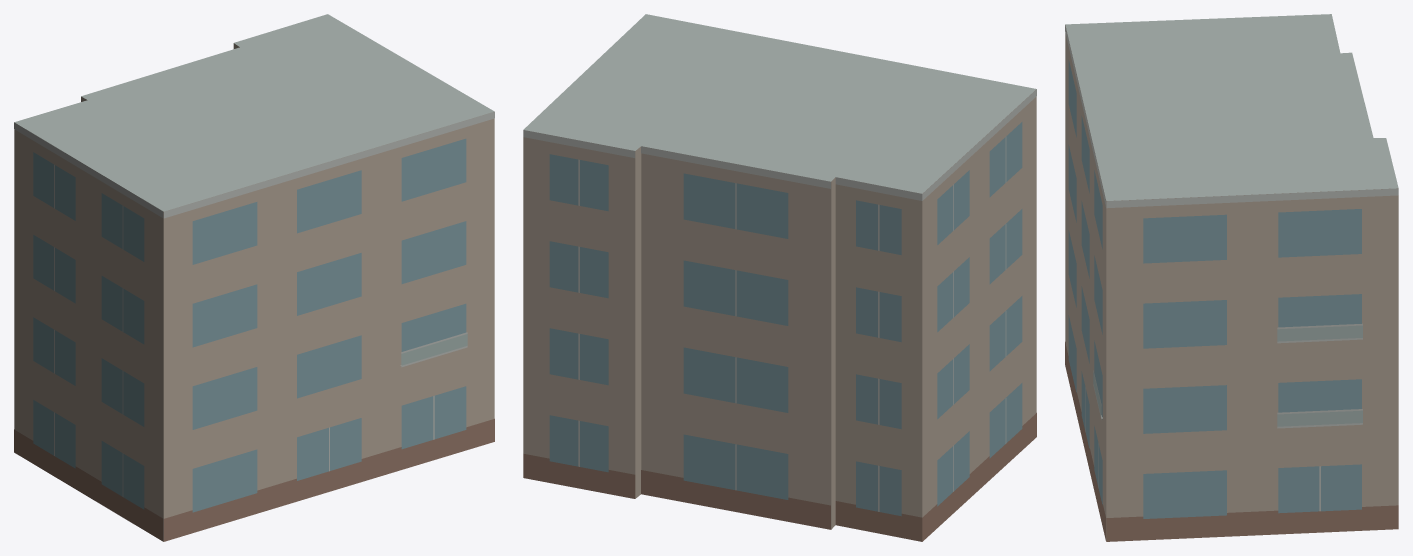
The model's file is survey-upis-32877029.glb.
The picture shows the model from 3 angles, left to right: view 1: azimuth 30°, elevation 25°; view 2: azimuth 150°, elevation 25°; view 3: azimuth 270°, elevation 25°; orthographic projection. The views are drawn at different scales.
Visible parts, largest first — view 1: survey-upis-32877029.tmp; view 2: survey-upis-32877029.tmp; view 3: survey-upis-32877029.tmp.
Part boxes in pixels (left/top/right/bottom): survey-upis-32877029.tmp: left=14, top=14, right=494, bottom=541; survey-upis-32877029.tmp: left=523, top=14, right=1036, bottom=541; survey-upis-32877029.tmp: left=1065, top=14, right=1398, bottom=541.
Bounding box in the file's own units: 13.79 × 11.7 × 10.39.
